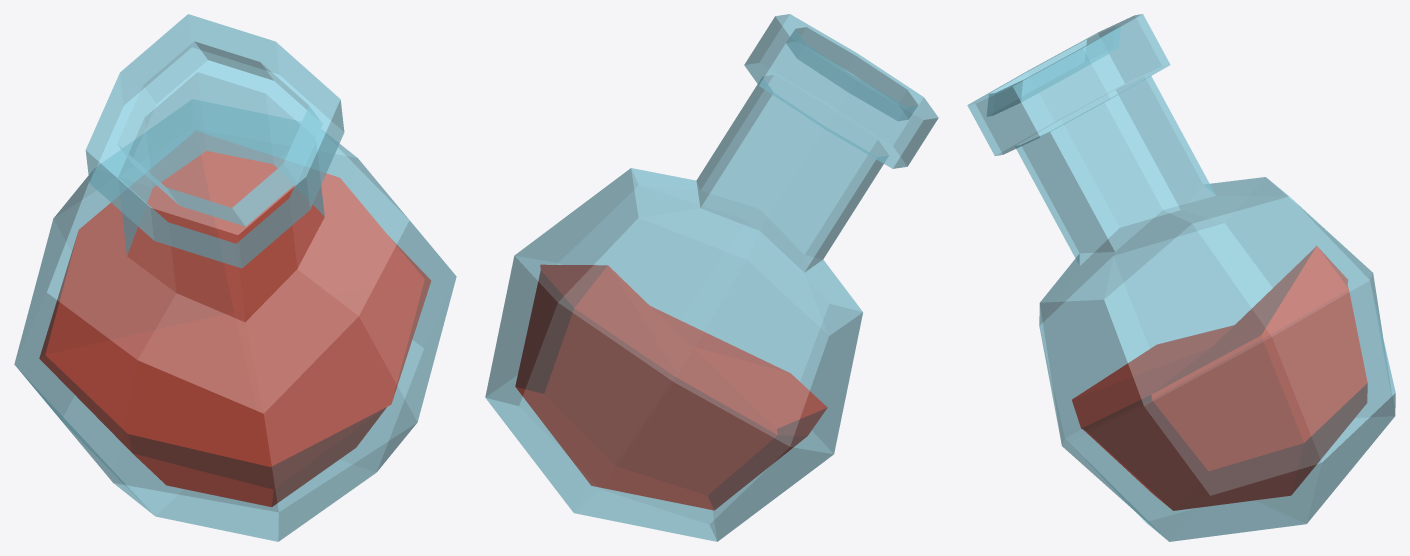
File: Pocion_color.fbx
3 views of the same model, side by side, from view 1: azimuth 30°, elevation 25°; view 2: azimuth 150°, elevation 25°; view 3: azimuth 270°, elevation 25° (orthographic). The views are drawn at different scales.
Parts seen in each view (by area): view 1: Pocion_color; view 2: Pocion_color; view 3: Pocion_color.
Part boxes in pixels (x1=…): Pocion_color: x1=14, y1=14, x2=456, y2=541; Pocion_color: x1=485, y1=14, x2=938, y2=541; Pocion_color: x1=967, y1=14, x2=1395, y2=541.
Size of the model in its own units: 12.03 by 12.94 by 15.67.
